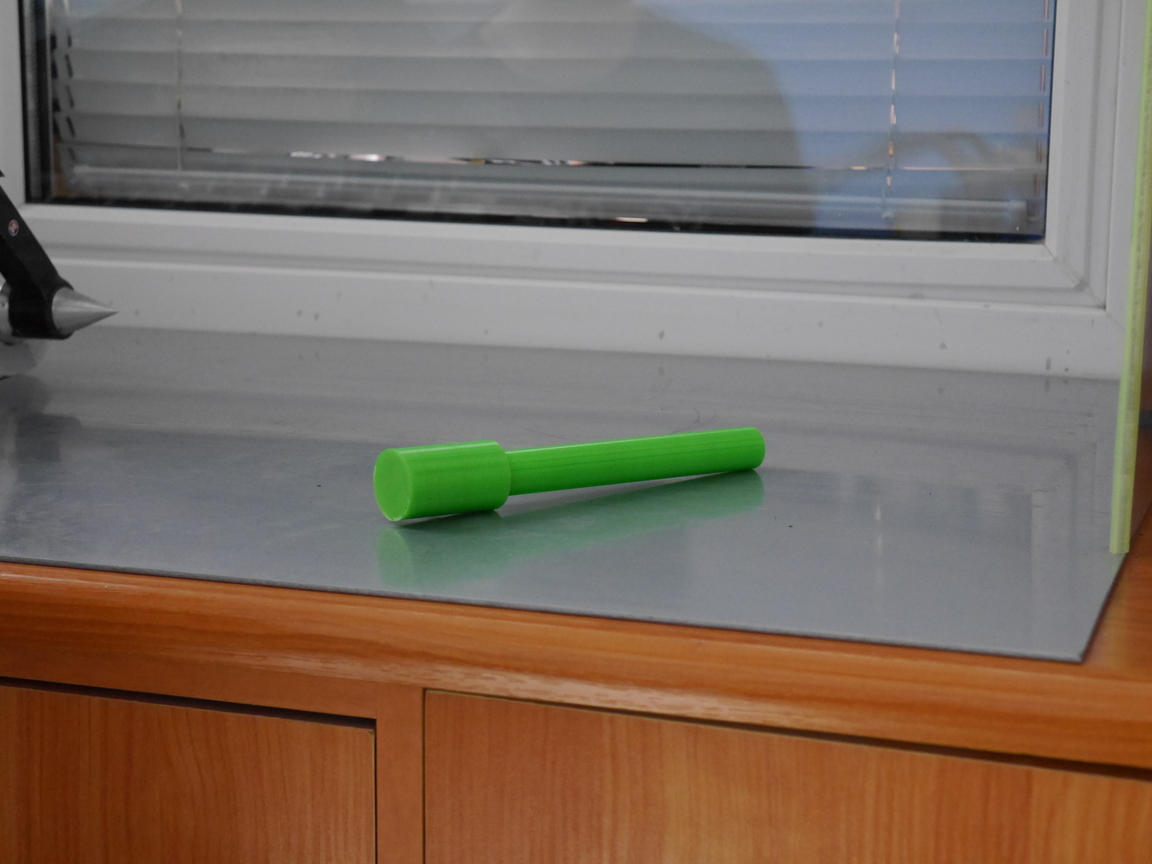cargo_g: (374, 427, 765, 523)
